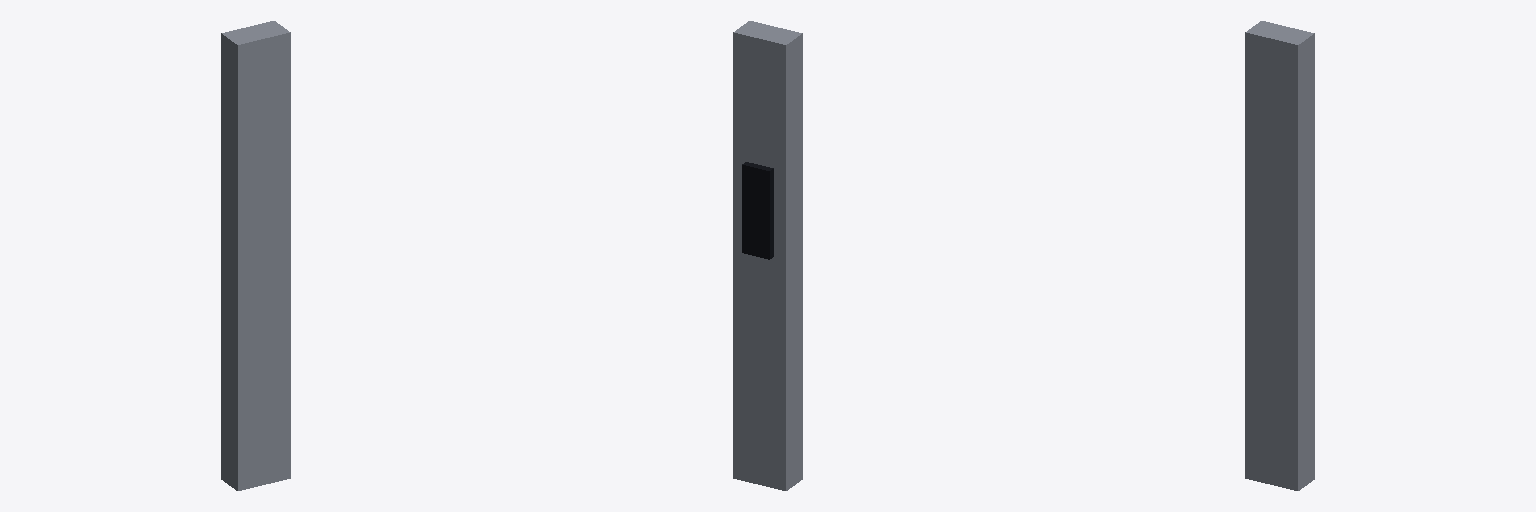
The robot description file, URDF, robot "artmanip_knife_001":
<?xml version='1.0' encoding='utf-8'?>
<robot name="artmanip_knife_001"><link name="link_0"><inertial><mass value="0.029" /><inertia ixx="5.23260534509646e-05" iyy="5.2903548512555456e-05" izz="1.0305348461758602e-06" ixy="0" ixz="0" iyz="0" /></inertial><visual><geometry><box size="0.018239951836181434 0.009681547873376564 0.14682788454326556" /></geometry><material name="link_0_color"><color rgba=".58 .60 .64 1" /></material></visual><collision><geometry><box size="0.018239951836181434 0.009681547873376564 0.14682788454326556" /></geometry></collision></link><link name="link_1"><inertial><mass value="0.006" /><inertia ixx="4.272249468504119e-07" iyy="4.696823328277958e-07" izz="4.80461271046927e-08" ixy="0" ixz="0" iyz="0" /></inertial><visual><geometry><box size="0.009513333436922969 0.0023640518453089832 0.02913522185557397" /></geometry><material name="link_1_color"><color rgba=".12 .13 .15 1" /></material></visual><collision><geometry><box size="0.009513333436922969 0.0023640518453089832 0.02913522185557397" /></geometry></collision></link><joint name="slider" type="prismatic"><parent link="link_0" /><child link="link_1" /><origin xyz="0.0 0.006022799859342774 0.0173147814783692" /><axis xyz="0 0 1" /><limit lower="-0.03933896415985903" upper="0.01066103584014097" effort="100" velocity="1" /><dynamics damping="1000" friction="0.001" /></joint></robot>

--- Facts derived from the render (not from the file) ---
Views: 3 orthographic renders of the robot side by side, from view 1: azimuth 30°, elevation 25°; view 2: azimuth 150°, elevation 25°; view 3: azimuth 330°, elevation 25°.
Model artmanip_knife_001 with 2 links and 1 joints (1 prismatic), rooted at link_0, posed all joints at 0.
Visible links, largest first — view 1: link_0; view 2: link_0, link_1; view 3: link_0.
Boxes of the visible links, <box> form: link_0: <box>221,21,290,490</box>; link_0: <box>733,21,802,490</box>; link_1: <box>742,162,773,259</box>; link_0: <box>1245,21,1314,490</box>.
Bounding box of the posed robot: 0.0182 × 0.012 × 0.1468 m (x, y, z).
Geometry: primitives only (box / cylinder / sphere), no mesh files.
